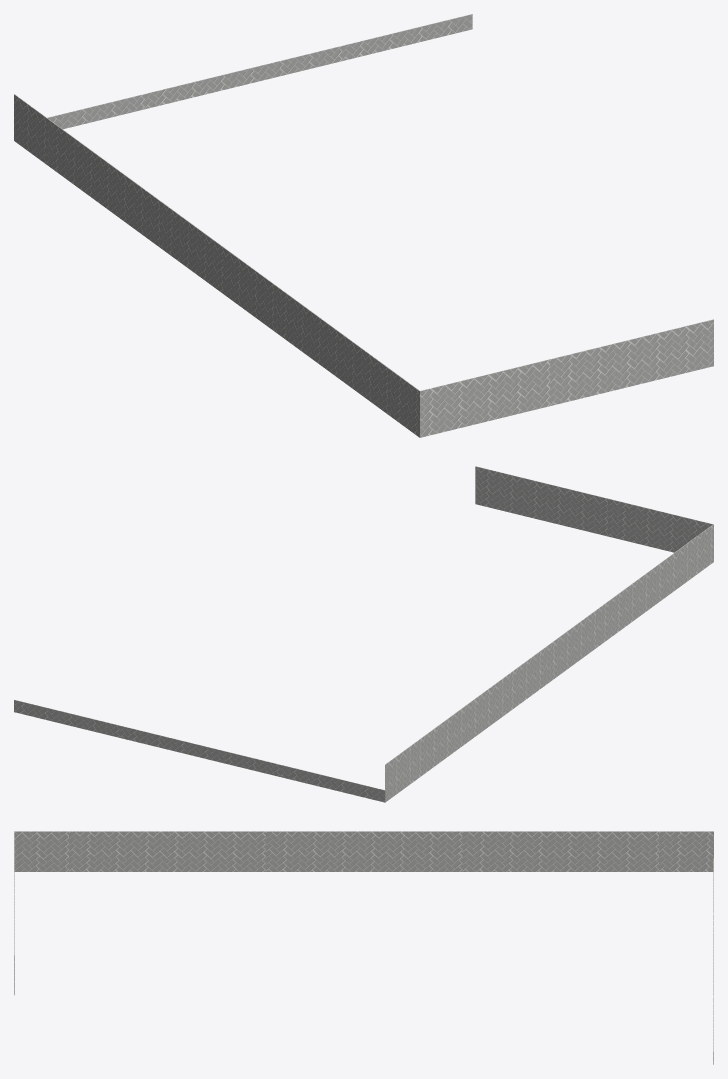
File: 2345_kitchen_BP_Artezen_IdealGrayHerringbone.gltf
The picture shows the model from 3 angles, top to bottom: view 1: azimuth 30°, elevation 25°; view 2: azimuth 150°, elevation 25°; view 3: azimuth 270°, elevation 25°; orthographic projection. The views are drawn at different scales.
Visible parts, largest first — view 1: BP_Artezen Ideal Gray Herringbone; view 2: BP_Artezen Ideal Gray Herringbone; view 3: BP_Artezen Ideal Gray Herringbone.
Boxes of the visible parts, bbox=[...] form: BP_Artezen Ideal Gray Herringbone: bbox=[14, 14, 713, 437]; BP_Artezen Ideal Gray Herringbone: bbox=[14, 466, 713, 802]; BP_Artezen Ideal Gray Herringbone: bbox=[14, 831, 713, 1064].
Bounding box in the file's own units: 6.39 × 0.62 × 9.8.
Materials: 1 (1 with a texture image).
